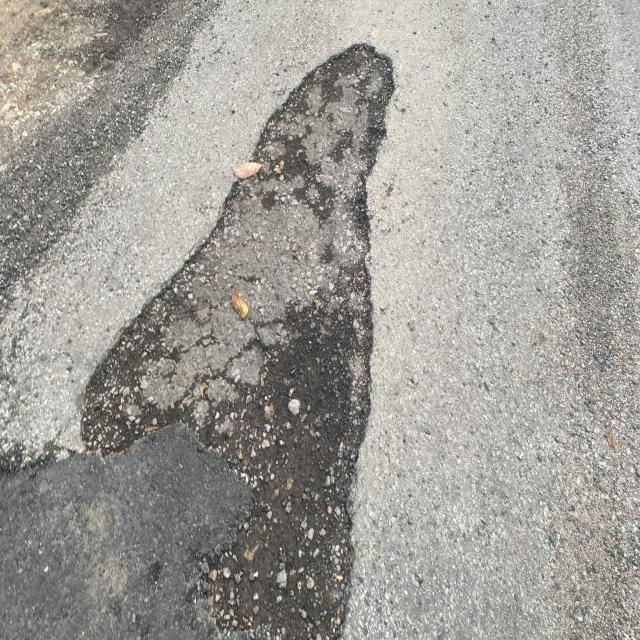pothole: (85, 13, 443, 577)
